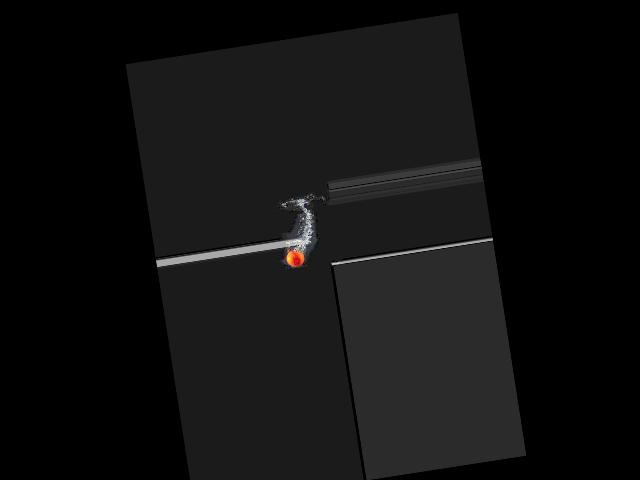tomato: (285, 249, 305, 267)
